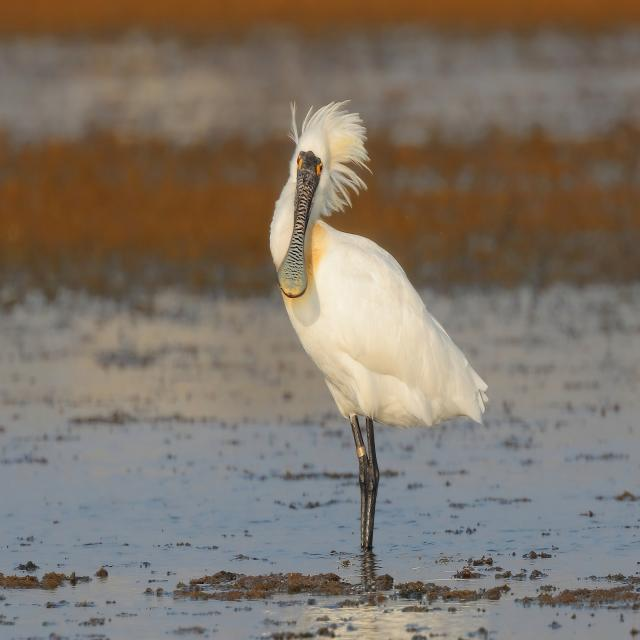Black-faced spoonbill: (271, 103, 487, 549)
